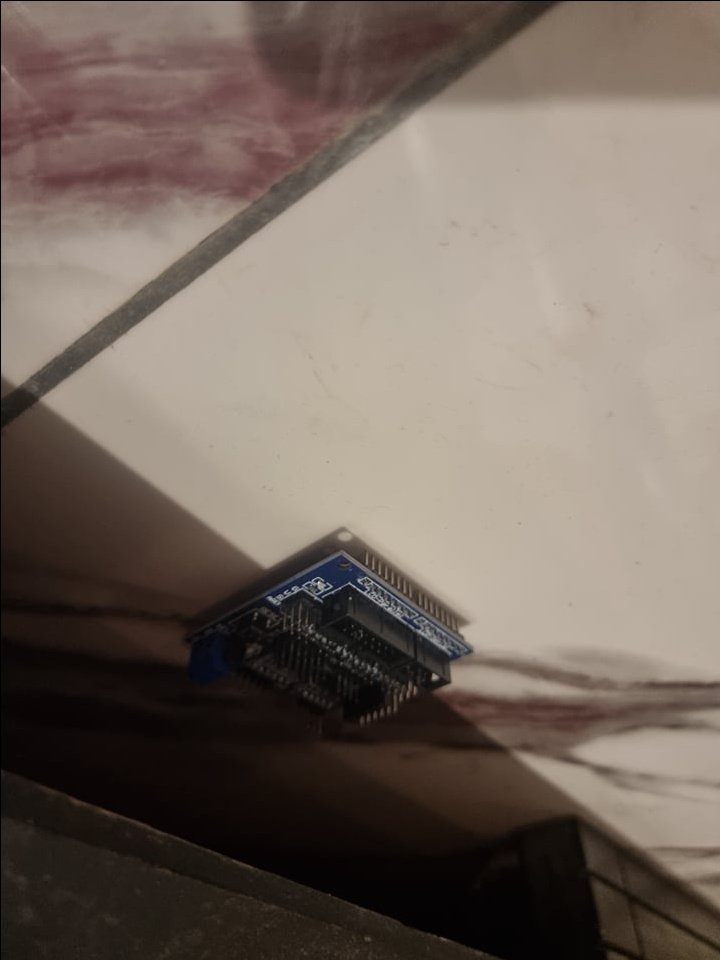5V EXPANSION: (181, 541, 473, 735)
